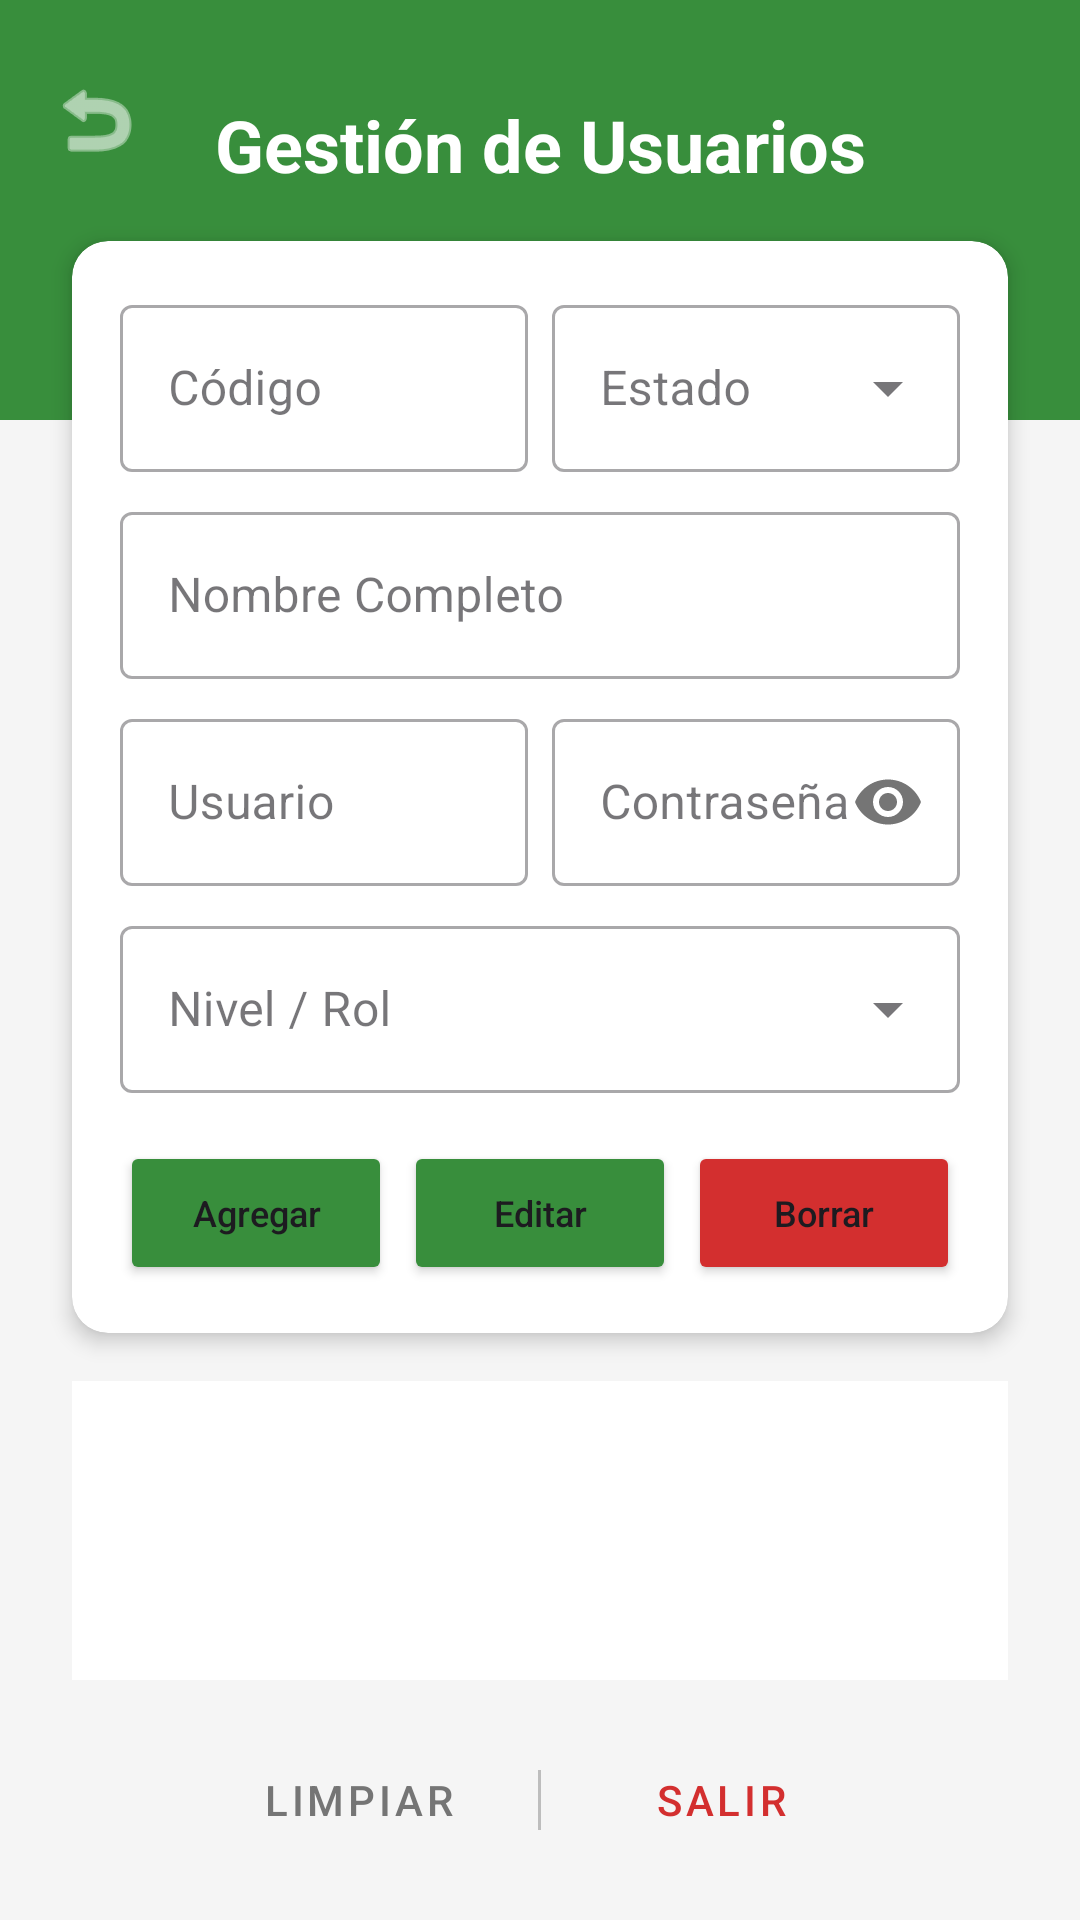

Where to tap for icons on this 1080px x 1920px app screen, as [x,y]:
revert: [97,120]
